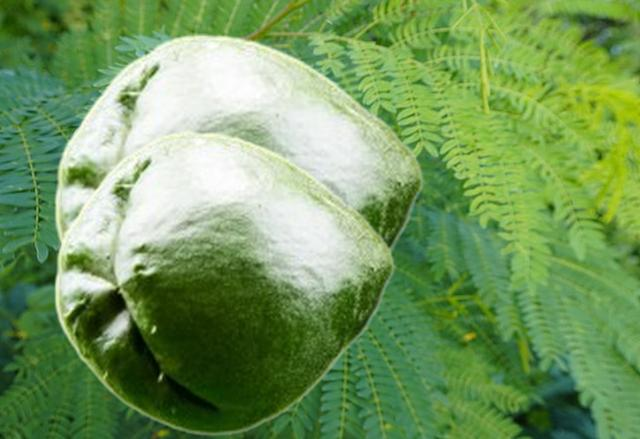sayote: (53, 130, 394, 435), (53, 33, 423, 253)
